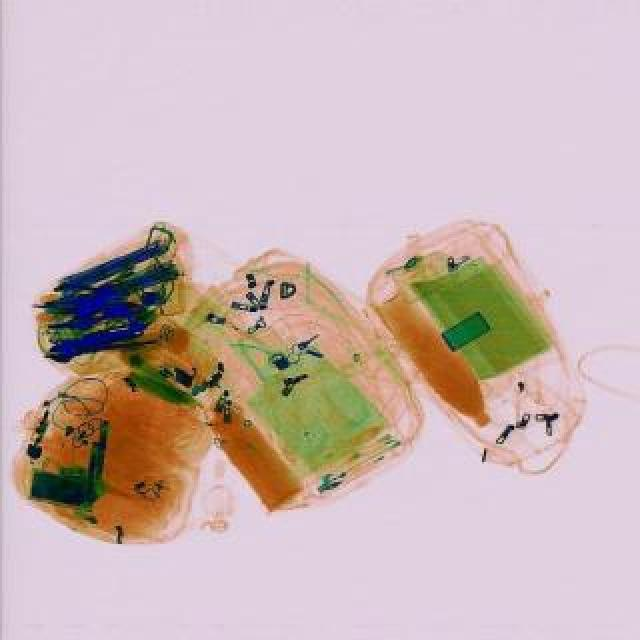scissors: (44, 318, 144, 366)
wrench: (50, 294, 142, 330), (48, 276, 120, 310)
